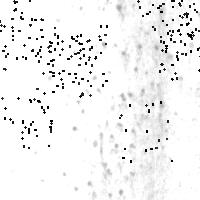pitted_surface: (58, 1, 175, 190), (49, 25, 106, 85), (39, 36, 95, 95), (119, 101, 171, 160), (0, 88, 50, 147), (0, 18, 49, 71), (159, 28, 200, 86), (159, 0, 200, 55), (137, 0, 194, 34), (174, 13, 200, 72), (0, 0, 34, 44)
